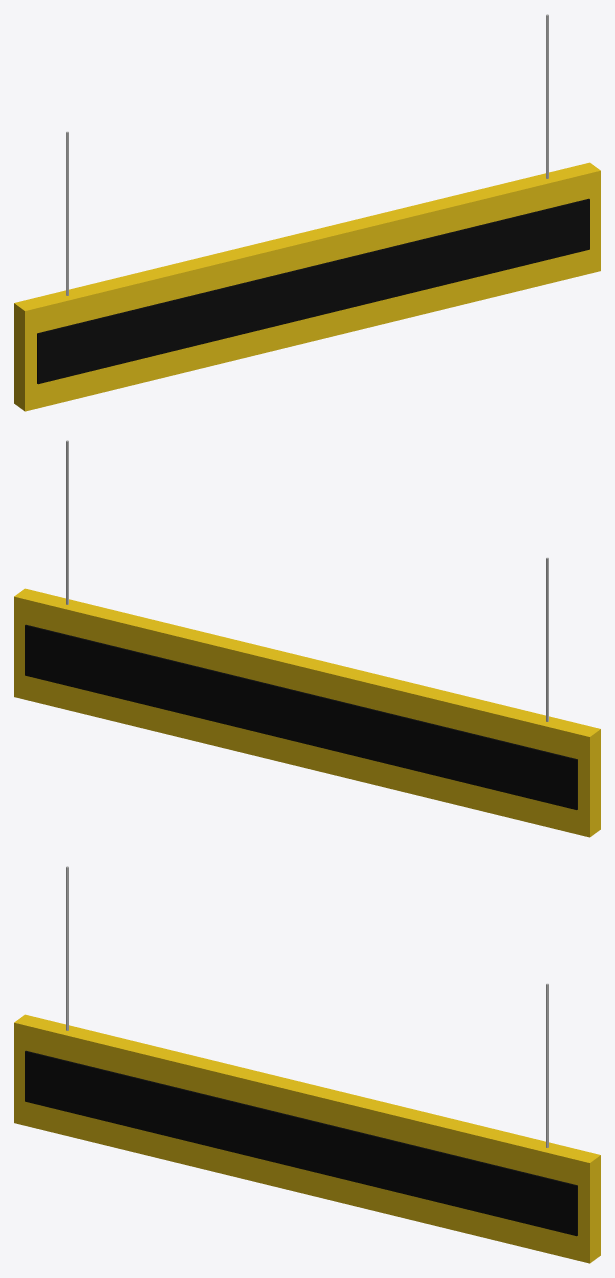
File: airport.sign.hanging.glb
3 renders of one model, top to bottom at view 1: azimuth 30°, elevation 25°; view 2: azimuth 150°, elevation 25°; view 3: azimuth 330°, elevation 25°, orthographic.
Visible parts, largest first — view 1: main__plastic_yellow, main__plastic_black, main__steel_stainless; view 2: main__plastic_yellow, main__plastic_black, main__steel_stainless; view 3: main__plastic_yellow, main__plastic_black, main__steel_stainless.
Part boxes in pixels (left/top/right/bottom): main__plastic_yellow: left=14, top=162, right=600, bottom=411; main__plastic_black: left=37, top=198, right=589, bottom=384; main__steel_stainless: left=66, top=14, right=548, bottom=295; main__plastic_yellow: left=14, top=588, right=600, bottom=837; main__plastic_black: left=25, top=624, right=577, bottom=809; main__steel_stainless: left=66, top=440, right=548, bottom=721; main__plastic_yellow: left=14, top=1014, right=600, bottom=1263; main__plastic_black: left=25, top=1050, right=577, bottom=1236; main__steel_stainless: left=66, top=866, right=548, bottom=1147.
Size of the model in its own units: 2.4 by 1.05 by 0.094.
